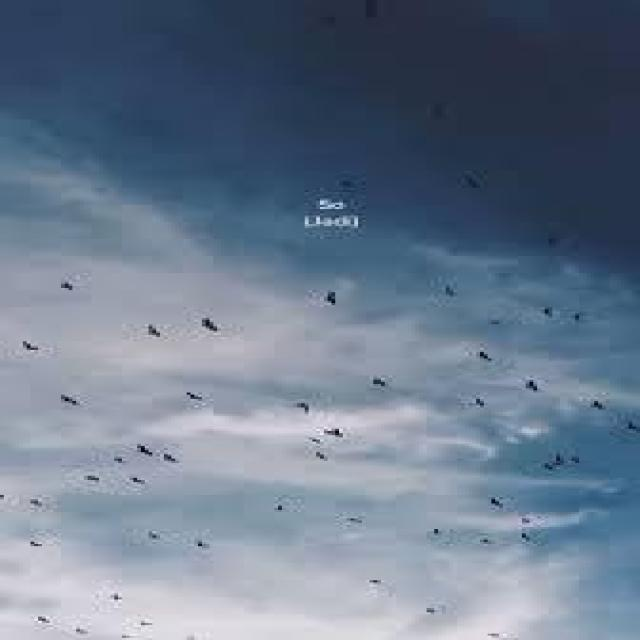bird: (425, 91, 460, 128), (456, 164, 492, 192), (354, 2, 390, 25), (15, 336, 49, 355), (198, 316, 225, 336), (320, 285, 342, 309), (142, 322, 169, 341), (24, 492, 51, 511), (472, 348, 496, 367), (58, 393, 86, 409), (140, 527, 162, 546), (565, 311, 591, 327), (418, 602, 446, 616), (292, 400, 315, 417), (52, 278, 76, 294), (182, 389, 206, 405), (316, 427, 348, 439), (78, 472, 105, 486), (438, 282, 459, 300), (368, 373, 390, 390), (160, 451, 182, 468), (342, 512, 368, 526), (537, 304, 558, 320), (584, 398, 608, 412), (520, 377, 540, 393), (538, 457, 558, 473), (619, 420, 640, 435), (192, 538, 214, 552), (543, 232, 561, 249), (487, 496, 508, 510), (136, 444, 156, 458), (28, 536, 48, 550), (131, 618, 159, 628), (126, 474, 147, 487), (517, 529, 536, 543), (34, 616, 60, 626), (108, 454, 130, 465), (470, 396, 487, 410), (271, 501, 289, 514), (362, 577, 388, 586), (474, 534, 492, 547), (548, 451, 564, 465), (312, 451, 332, 462), (68, 625, 89, 635), (568, 456, 582, 467), (432, 526, 443, 540), (484, 631, 504, 638), (114, 591, 120, 604)
